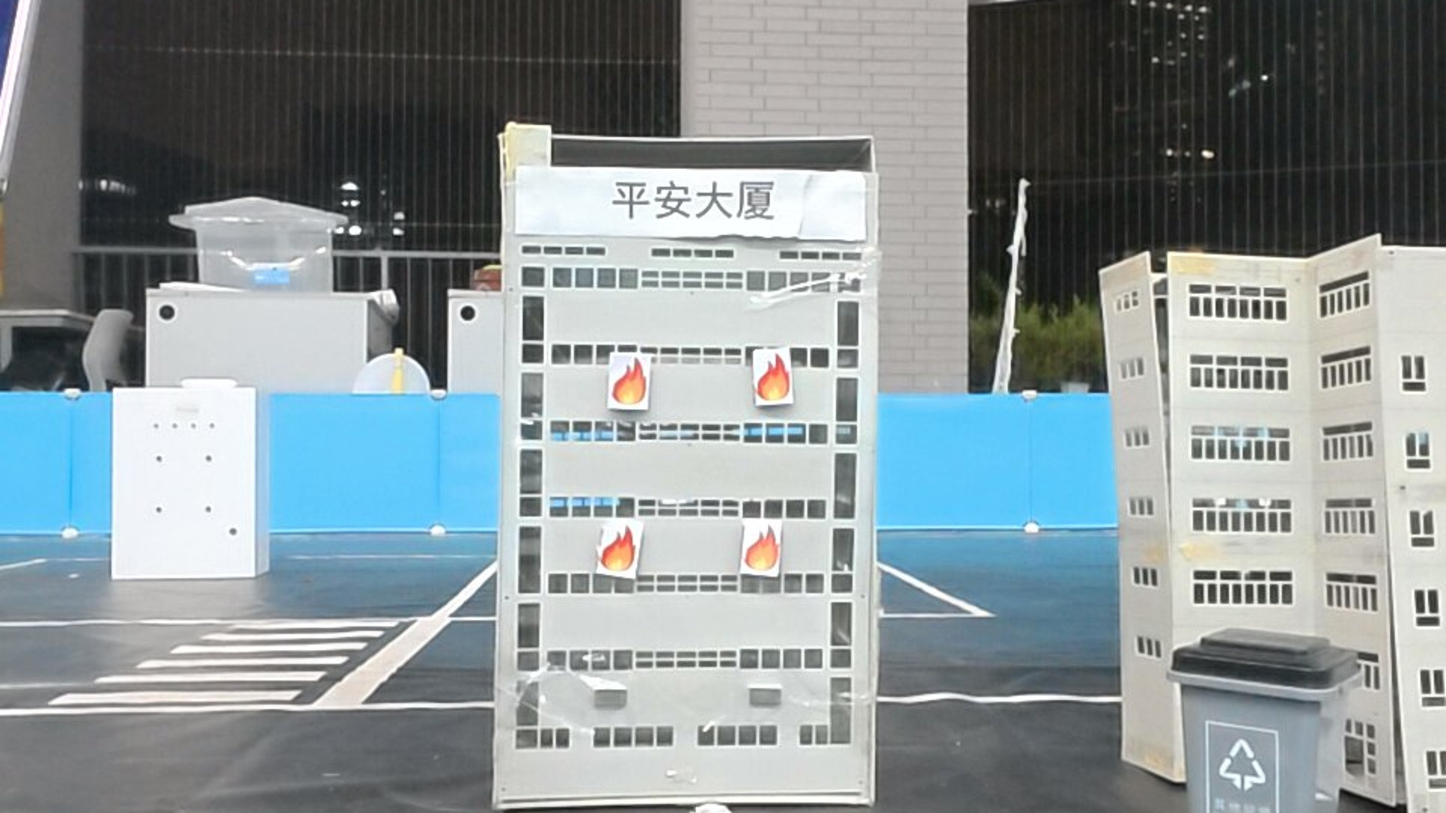fire: (599, 518, 643, 577), (740, 519, 785, 576), (608, 353, 653, 409), (753, 350, 795, 406)
